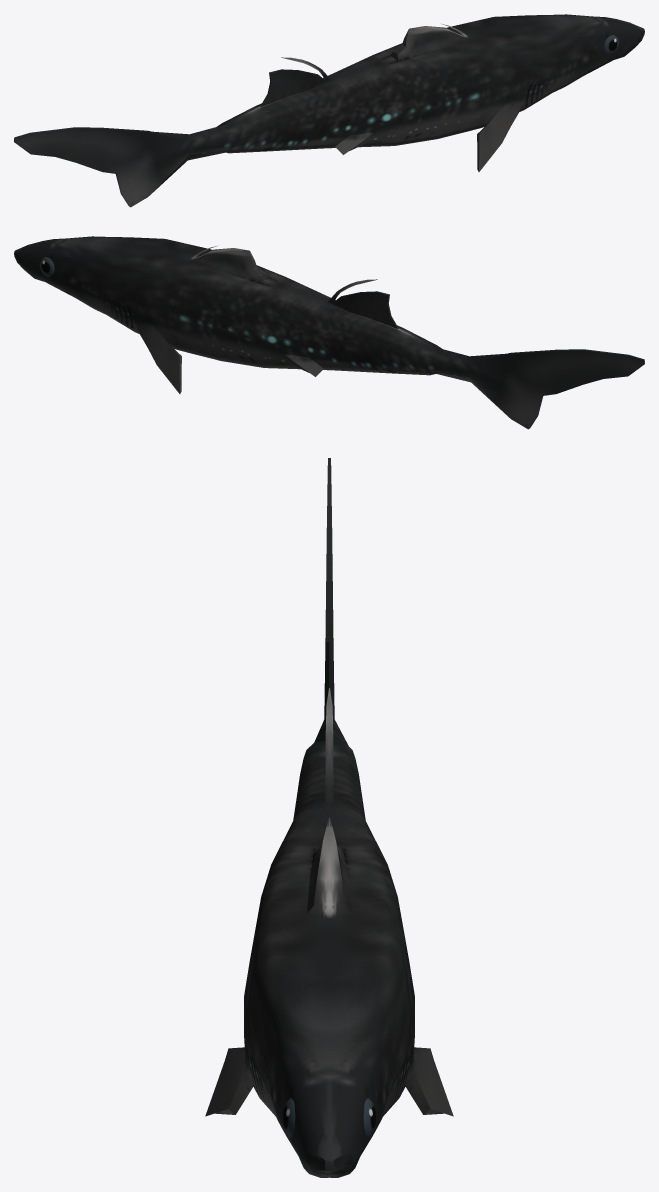
The model's file is Short-tailLanternshark.glb.
3 renders of one model, top to bottom at view 1: azimuth 30°, elevation 25°; view 2: azimuth 150°, elevation 25°; view 3: azimuth 270°, elevation 25°, orthographic. The views are drawn at different scales.
Visible parts, largest first — view 1: Cube; view 2: Cube; view 3: Cube.
Part boxes in pixels (x1,y1,x2,y2): Cube: (14, 14, 644, 207); Cube: (14, 236, 644, 429); Cube: (205, 458, 453, 1177).
Size of the model in its own units: 6.75 by 1.36 by 1.15.
1 material, 1 textured.
